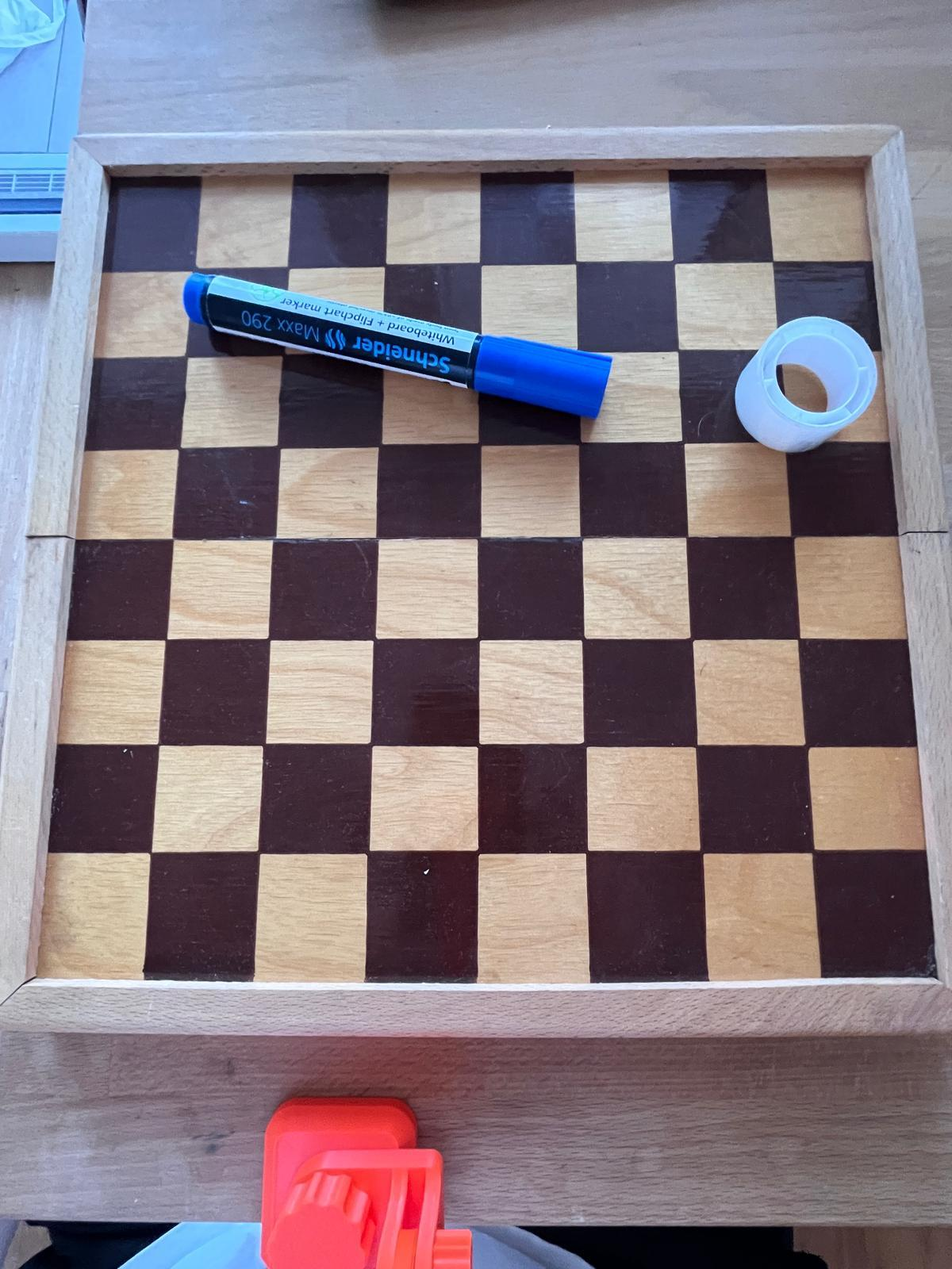marker: (175, 266, 616, 420)
tape: (730, 308, 882, 454)
